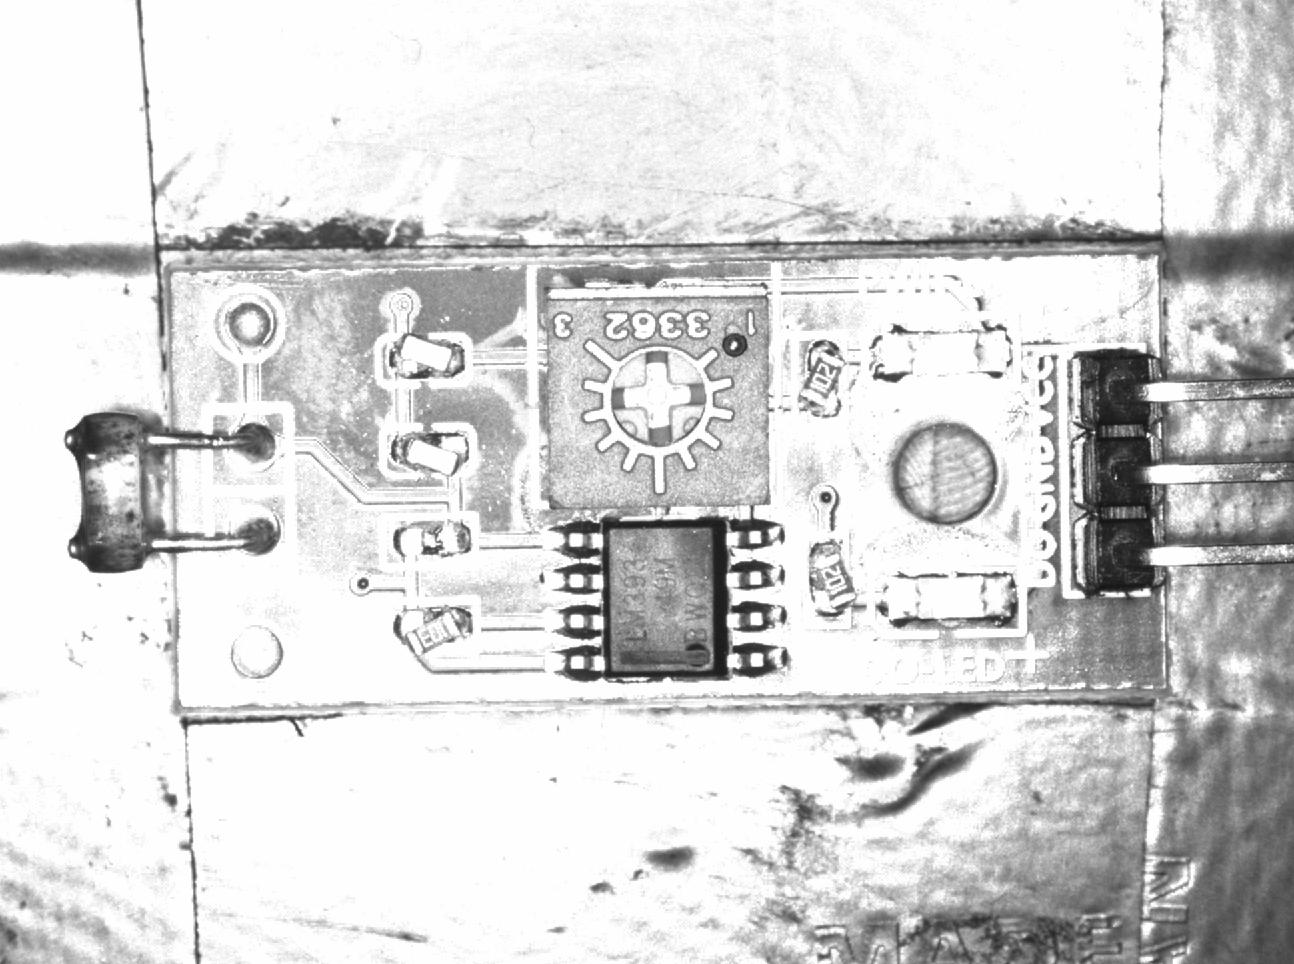bridge: (379, 514, 480, 564)
lifted: (386, 598, 482, 655), (803, 531, 856, 631), (793, 330, 848, 421), (373, 334, 471, 385), (380, 426, 476, 477)
